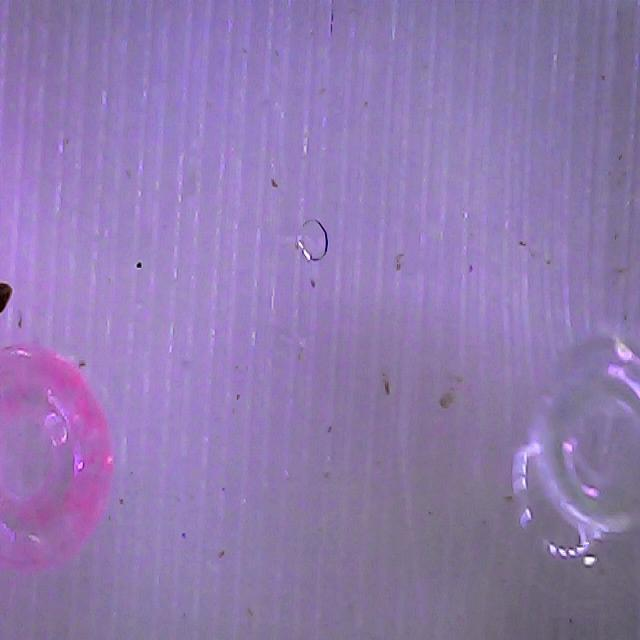beads: (513, 339, 640, 567), (0, 345, 113, 571), (272, 232, 292, 299)
